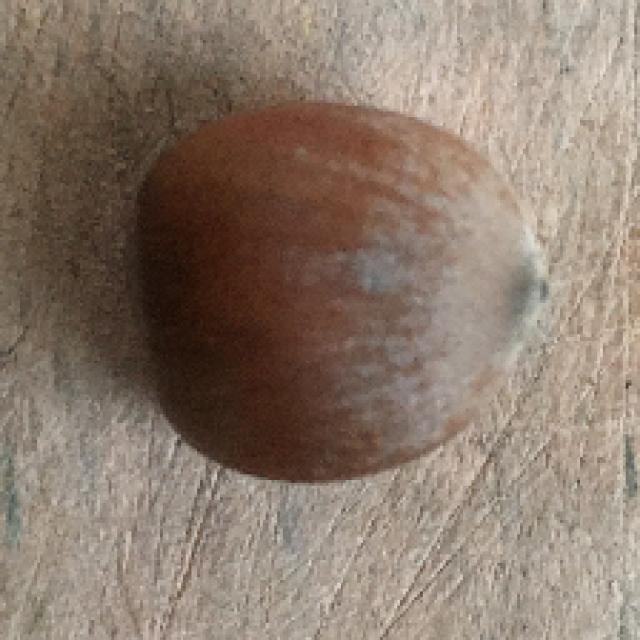qualityHazelnut: (128, 93, 548, 487)
